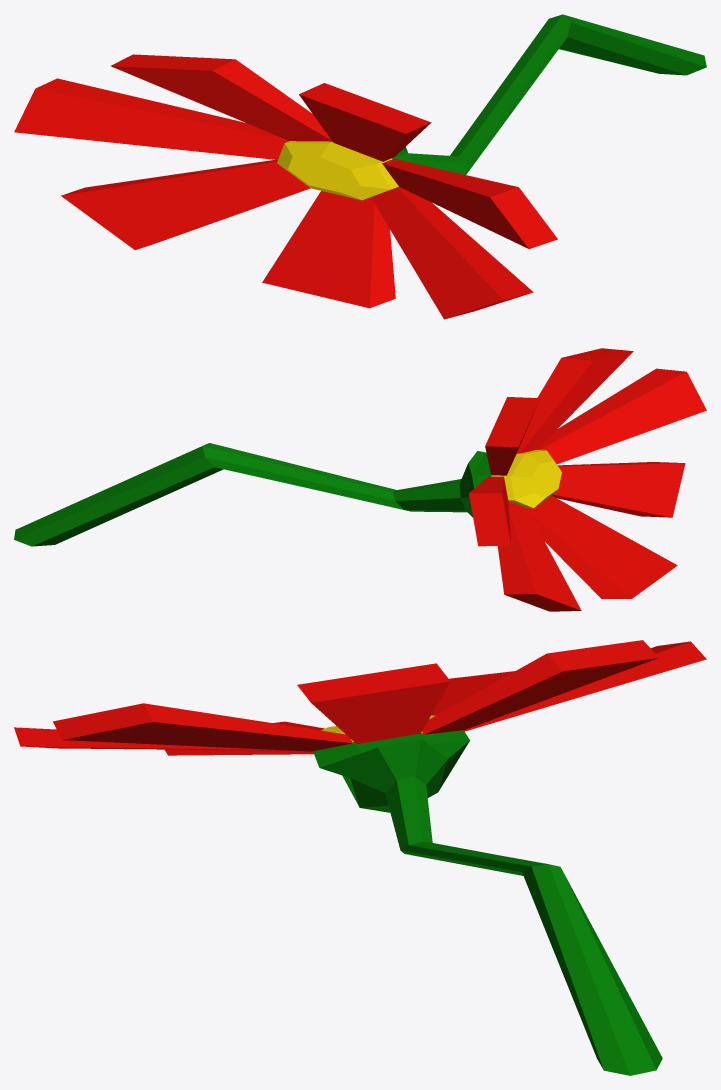
The model's file is FlowerSteppedOnRed.fbx.
3 views of the same model, one above another, from view 1: azimuth 30°, elevation 25°; view 2: azimuth 150°, elevation 25°; view 3: azimuth 270°, elevation 25° (orthographic). The views are drawn at different scales.
Parts seen in each view (by area): view 1: flower; view 2: flower; view 3: flower.
Part boxes in pixels (bbox=[...]): flower: bbox=[14, 14, 706, 319]; flower: bbox=[14, 348, 706, 611]; flower: bbox=[14, 640, 706, 1075].
Size of the model in its own units: 21.61 by 4.55 by 18.1.
